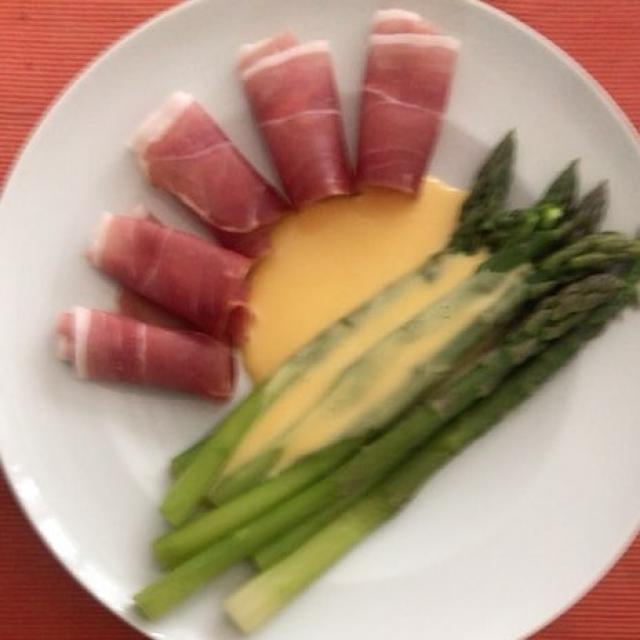asparagus: (141, 133, 635, 623)
ham: (58, 16, 456, 389)
